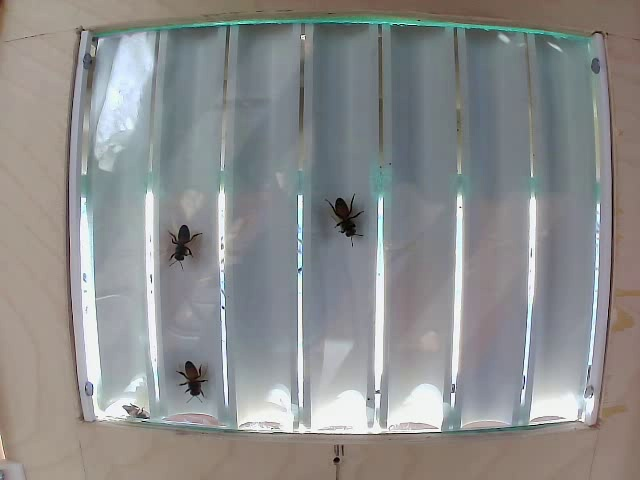bee: (159, 229, 198, 273), (166, 359, 210, 391), (336, 197, 365, 245)
